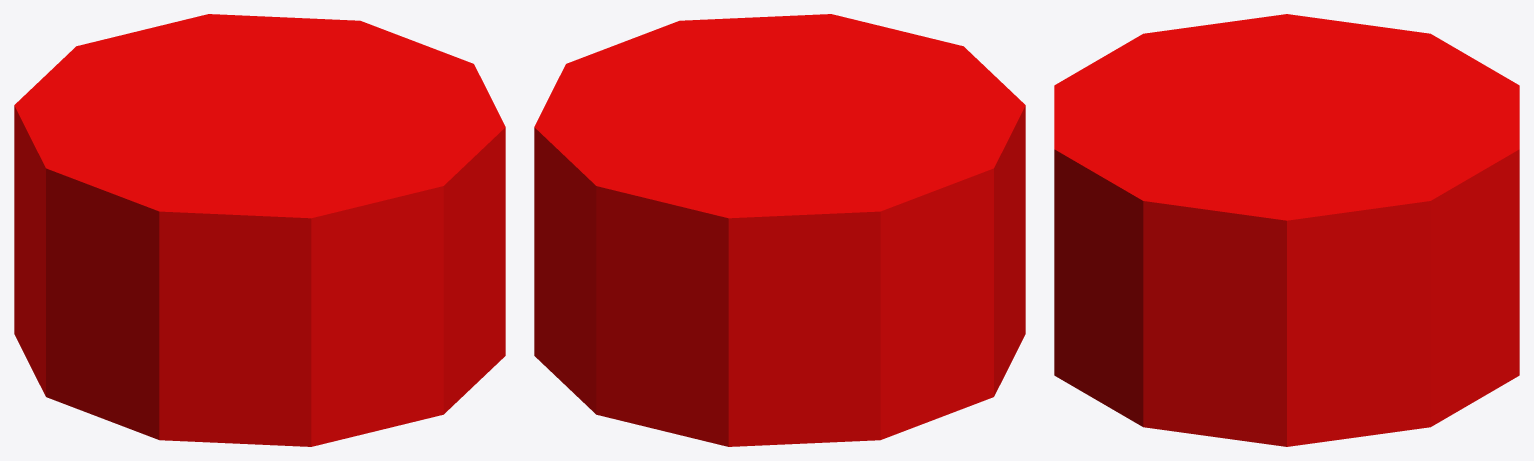
Rendered from Cushion1.fbx.
3 views of the same model, side by side, from view 1: azimuth 30°, elevation 25°; view 2: azimuth 150°, elevation 25°; view 3: azimuth 270°, elevation 25° (orthographic).
Parts seen in each view (by area): view 1: LargeCushion1; view 2: LargeCushion1; view 3: LargeCushion1.
Boxes of the visible parts, box(x1,y1,x2,y2) form: LargeCushion1: box(14, 14, 505, 446); LargeCushion1: box(534, 14, 1025, 446); LargeCushion1: box(1054, 14, 1519, 446).
Bounding box in the file's own units: 123 × 62.56 × 117.
1 material, 1 textured.
